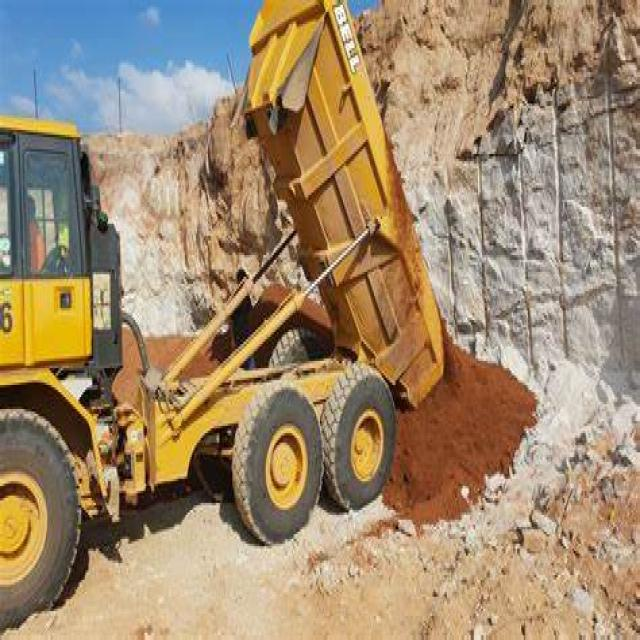dump_truck: (2, 4, 454, 626)
